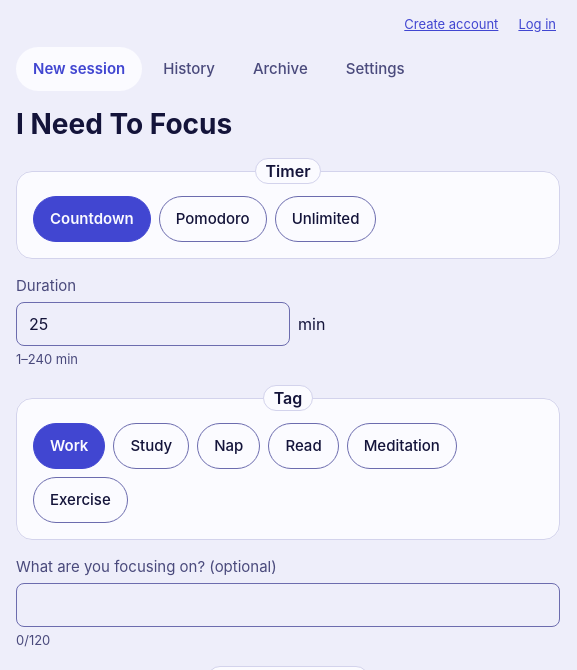
Scenario: /signup, /login and Continue without an account › opens a form from the account bar and Continue goes back to the screen it was opened from
What coordinates should you click on to do the following:
click the button "Settings"
I would click on:
 (375, 69)
Its box is [329,47,422,91].
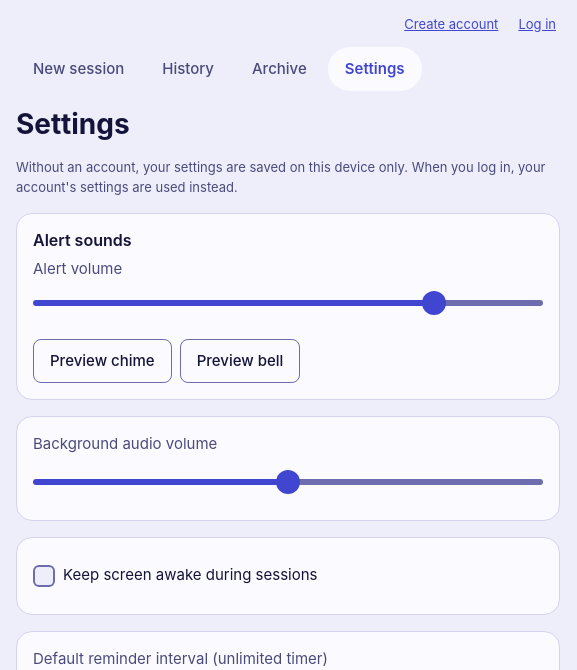
Expected: the heading "Settings" is shown, [16,107,130,141]
What coordinates should you click on to do the following:
click the link "Log in"
I would click on:
 (537, 24)
Its box is [518,16,556,32].
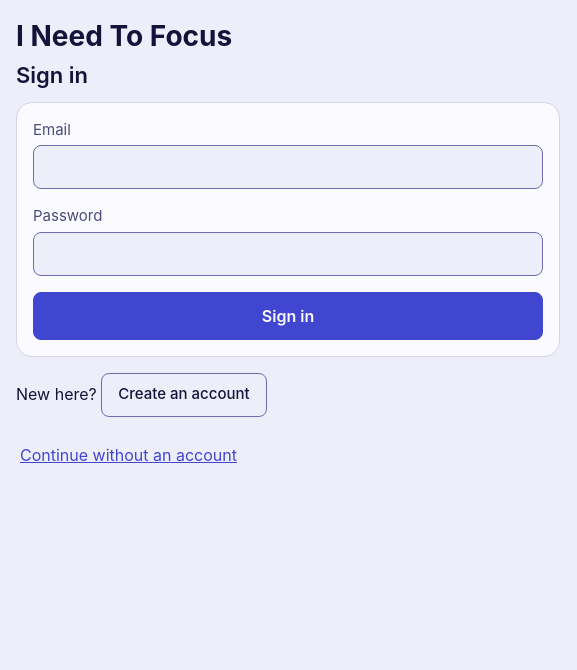
Expected: the heading "Sign in" is shown, [16,62,88,88]
What coordinates should you click on to do the following:
click the link "Continue without an account"
I would click on:
 (128, 454)
Its box is [20,444,237,464].
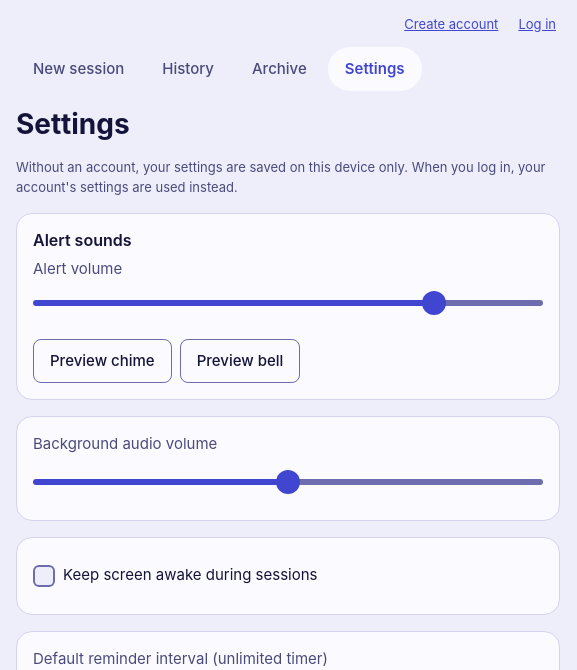
Expected: the heading "Settings" is shown, [16,107,130,141]
